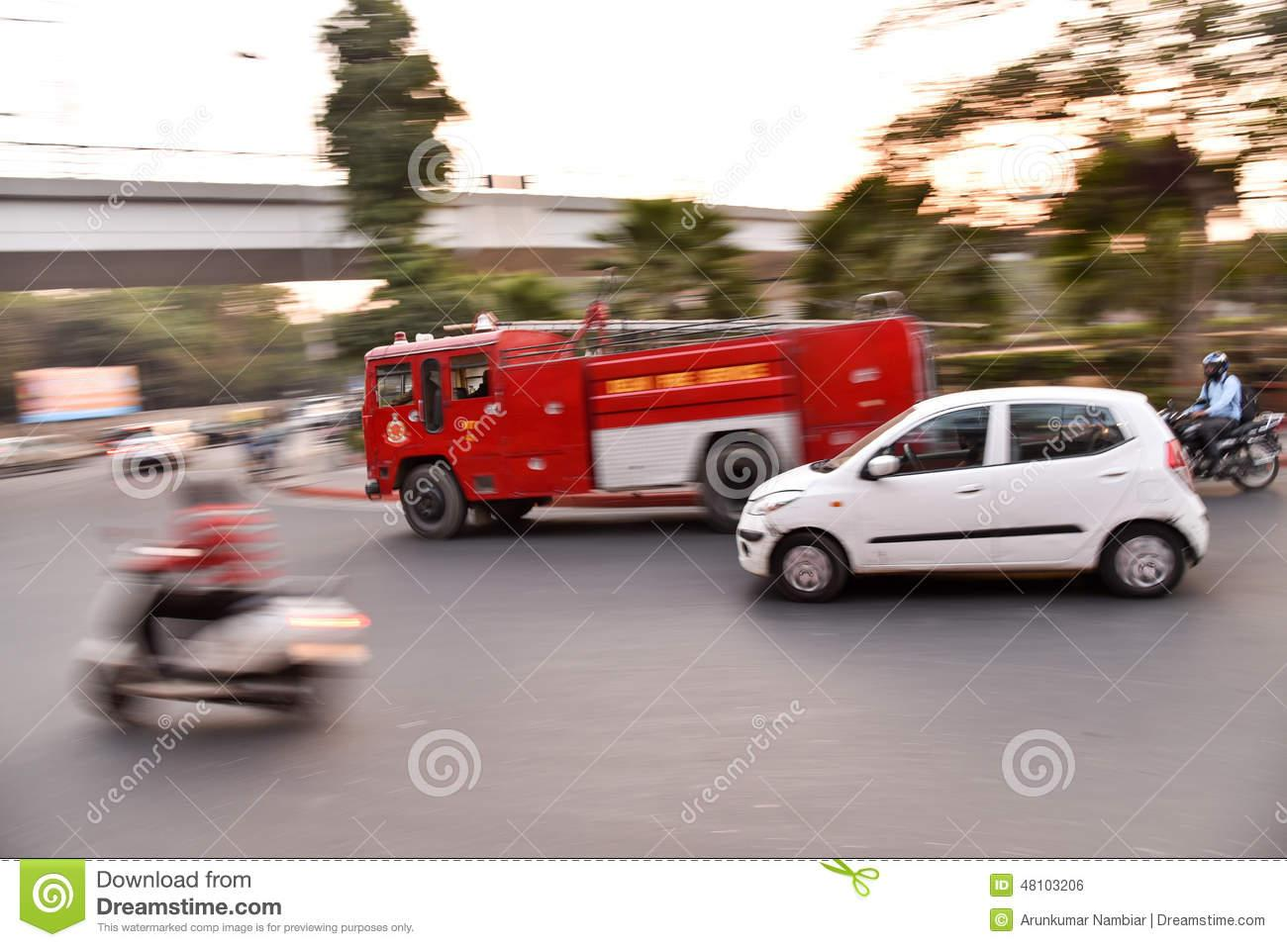Emergency-Vehicles: (315, 322, 942, 511)
